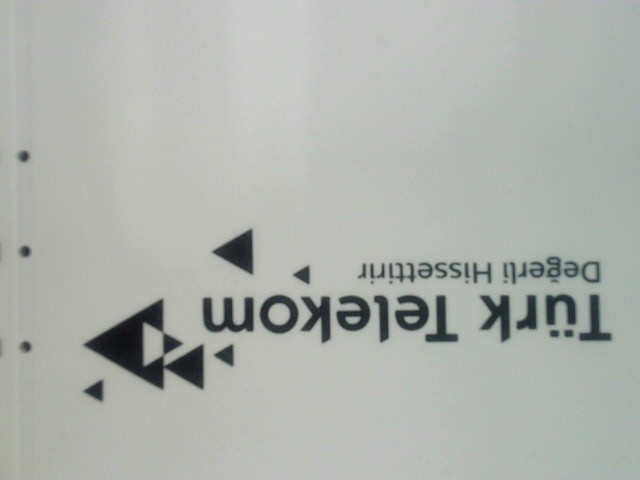AQ_TURKTelekom: (56, 224, 617, 417)
